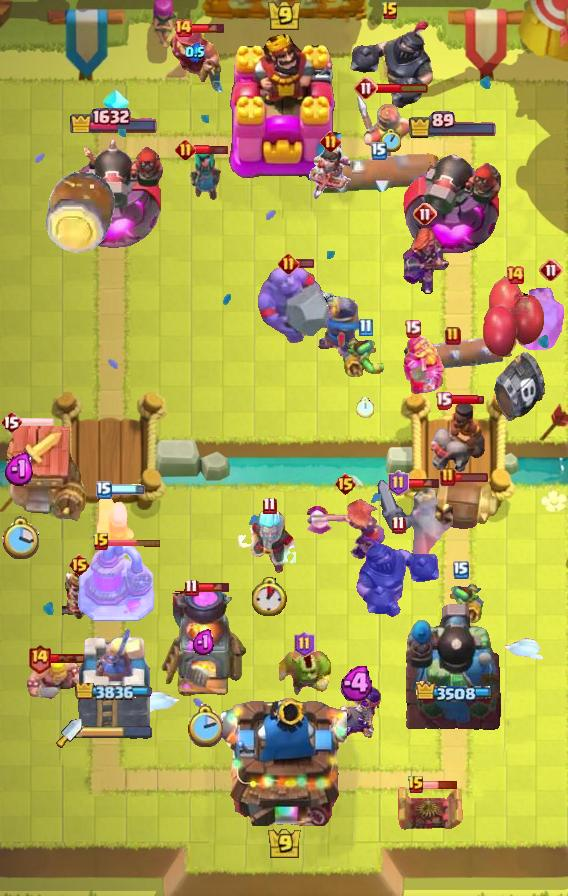bar: (376, 82, 429, 94), (108, 538, 162, 547), (194, 143, 229, 156), (18, 416, 55, 428), (449, 394, 485, 406), (196, 581, 231, 593), (406, 477, 441, 489), (191, 22, 226, 34), (109, 484, 145, 495), (453, 472, 489, 483), (50, 653, 85, 664), (423, 780, 458, 790), (296, 258, 315, 269)
bar-level: (27, 643, 52, 674), (539, 258, 563, 282), (413, 202, 437, 226), (354, 76, 378, 100), (68, 553, 91, 577), (334, 472, 357, 496), (294, 631, 315, 657), (388, 470, 409, 496), (0, 410, 22, 434), (278, 253, 299, 274), (175, 139, 196, 160), (320, 131, 341, 152), (505, 265, 525, 285), (173, 18, 193, 38), (407, 775, 425, 795), (92, 532, 110, 552), (381, 1, 399, 21), (435, 391, 452, 410), (404, 319, 421, 338), (440, 467, 456, 487), (445, 326, 461, 346), (453, 561, 469, 579), (96, 481, 112, 499), (371, 142, 387, 160), (184, 578, 199, 597), (391, 515, 406, 534), (262, 496, 277, 515), (358, 318, 373, 337)
barbarian: (27, 656, 83, 702)
barbarian-barrel: (422, 477, 502, 531)
bomber-evolution: (333, 685, 383, 739)
cannoneer-tower: (61, 132, 168, 256), (403, 601, 503, 731), (403, 138, 503, 256)
clock: (1, 516, 39, 561), (186, 704, 223, 747), (252, 577, 287, 616), (380, 129, 401, 152), (356, 397, 374, 418)
dagger-duchess-tower: (75, 623, 153, 731)
dagger-duchess-tower-bar: (82, 726, 152, 740)
elixir: (340, 666, 377, 701), (4, 452, 36, 487), (192, 629, 216, 656), (185, 42, 205, 62)
firecracker: (95, 492, 137, 550)
goblin-brawler: (274, 645, 334, 699)
ice-spirit-evolution-symbol: (101, 88, 131, 118)
ice-wizard: (236, 504, 302, 576)
king-tower: (227, 29, 341, 181), (221, 690, 347, 826)
knight: (316, 293, 361, 358)
knight-evolution: (400, 333, 446, 395)
little-prince: (62, 571, 96, 621)
princess: (306, 141, 354, 203)
ram-rider: (429, 398, 487, 474)
rascal-girl: (182, 147, 222, 201)
royal-ghost: (375, 479, 453, 559), (514, 285, 568, 351)
royal-recruit: (355, 90, 411, 160)
spear-goblin: (437, 582, 485, 624), (341, 336, 389, 378)
tesla: (394, 784, 464, 834)
the-log: (316, 149, 442, 199), (403, 336, 503, 372)
tower-bar: (408, 111, 498, 139), (69, 105, 159, 133), (414, 681, 492, 703), (75, 683, 153, 700)
valkyrie-evolution: (304, 497, 387, 561), (399, 225, 451, 297)
